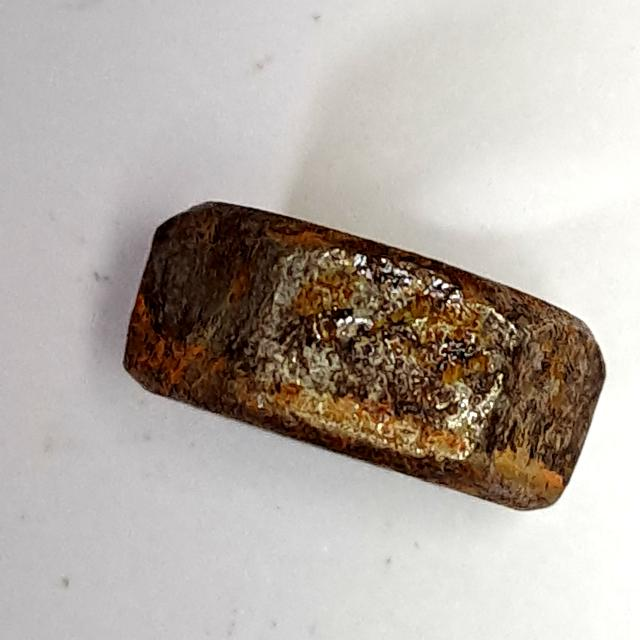Side_Rust: (108, 192, 617, 525)
